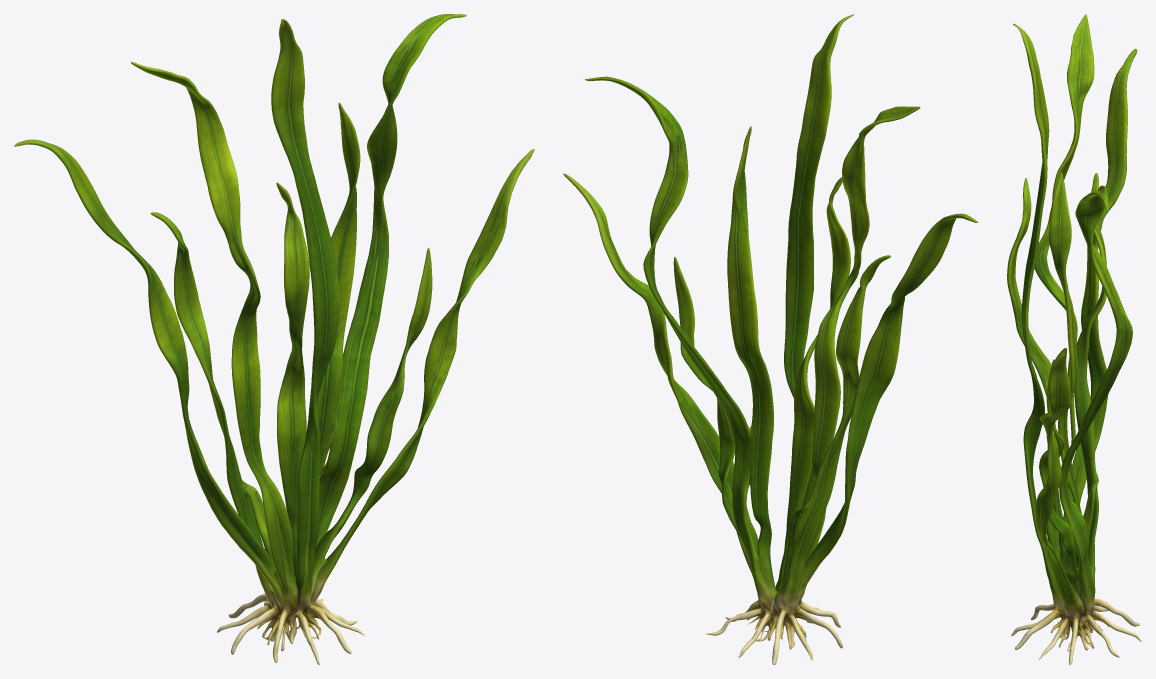
File: grass+plant+3d+model.glb
The picture shows the model from 3 angles, left to right: view 1: azimuth 30°, elevation 25°; view 2: azimuth 150°, elevation 25°; view 3: azimuth 270°, elevation 25°; orthographic projection. The views are drawn at different scales.
Visible parts, largest first — view 1: tripo_node_d6cb98b5-a16a-44aa-b767-dd31a478937a; view 2: tripo_node_d6cb98b5-a16a-44aa-b767-dd31a478937a; view 3: tripo_node_d6cb98b5-a16a-44aa-b767-dd31a478937a.
Boxes of the visible parts, x1,y1,x2,y2 form: tripo_node_d6cb98b5-a16a-44aa-b767-dd31a478937a: (14, 14, 534, 664); tripo_node_d6cb98b5-a16a-44aa-b767-dd31a478937a: (563, 14, 978, 664); tripo_node_d6cb98b5-a16a-44aa-b767-dd31a478937a: (1007, 14, 1141, 664).
Bounding box in the file's own units: 0.7655 × 0.9954 × 0.2029.
Materials: 1 (1 with a texture image).
